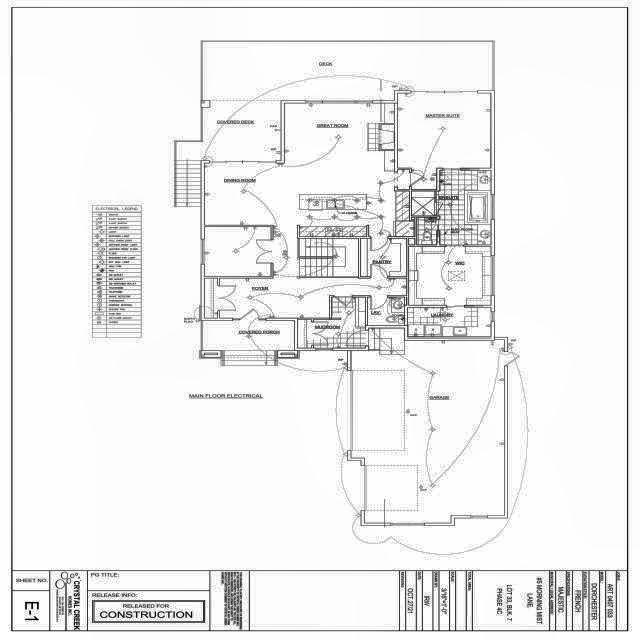room: (117, 351, 312, 504), (451, 398, 547, 491), (335, 409, 393, 491), (395, 436, 469, 491), (364, 205, 413, 271), (292, 313, 343, 365), (303, 408, 332, 491), (364, 361, 402, 407), (315, 368, 343, 404), (424, 411, 449, 434), (395, 417, 422, 437)
